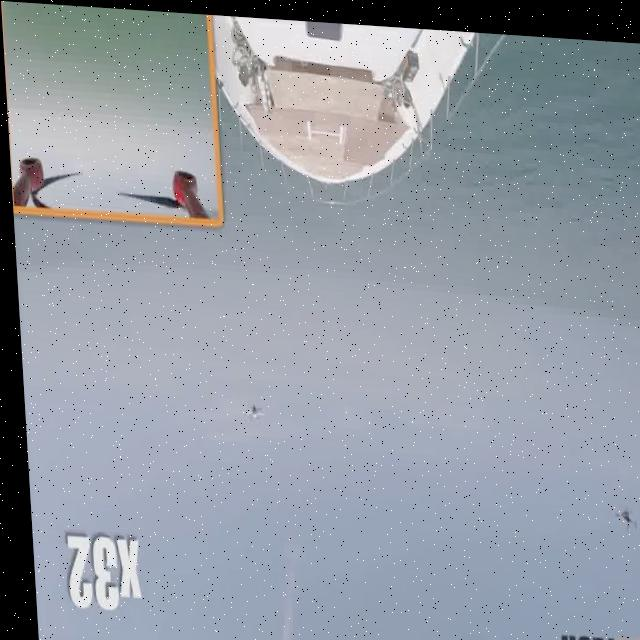drone: (597, 492, 635, 535), (235, 394, 266, 432)
